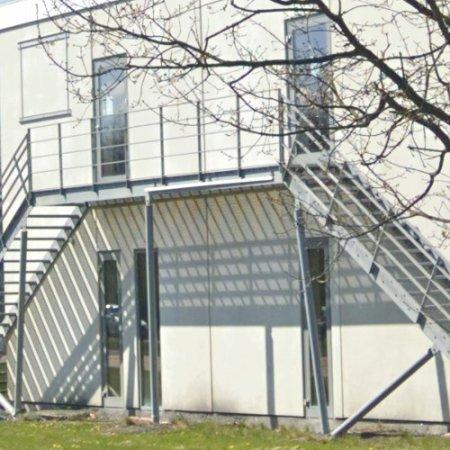stairs: (286, 108, 450, 359), (26, 207, 81, 296)
